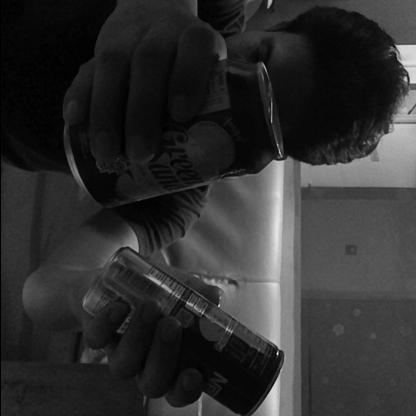alumunium_can: (78, 243, 284, 416), (64, 59, 288, 208)
